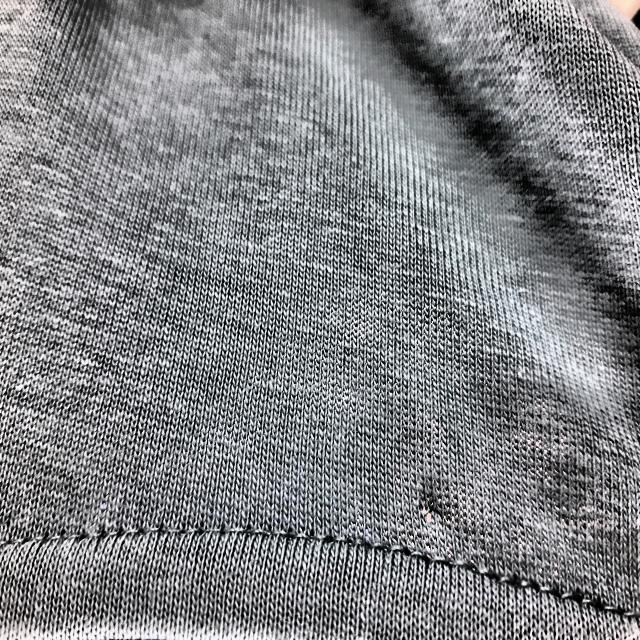Hole: (411, 480, 450, 534)
